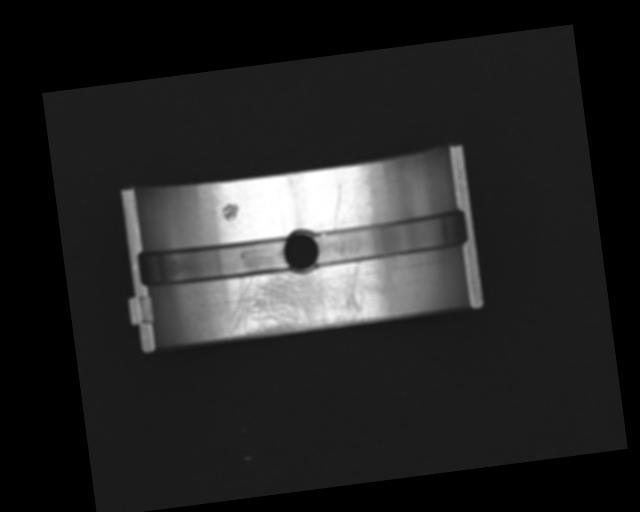bruise: (220, 201, 240, 223)
gap: (311, 210, 468, 266), (137, 235, 291, 289)
hole: (280, 228, 322, 274)
nick: (327, 183, 346, 230)
scratch: (225, 258, 384, 338)
